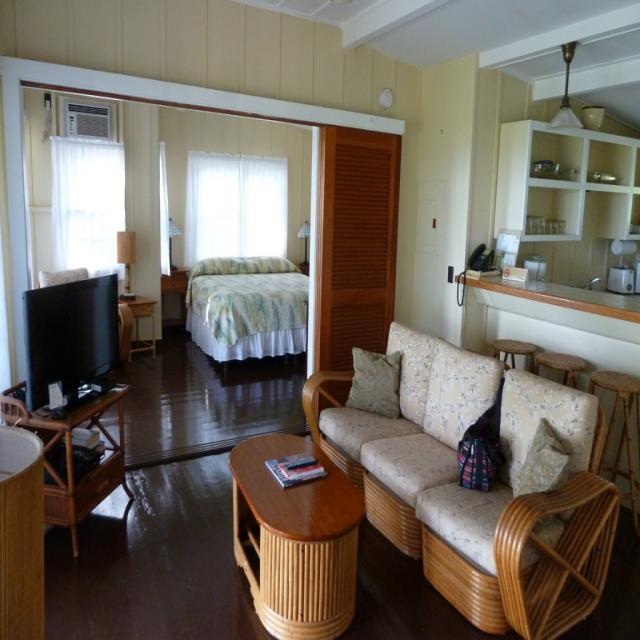chair: (492, 469, 622, 640), (491, 339, 539, 372)
desk: (19, 360, 127, 554)
tv: (24, 268, 120, 412)
